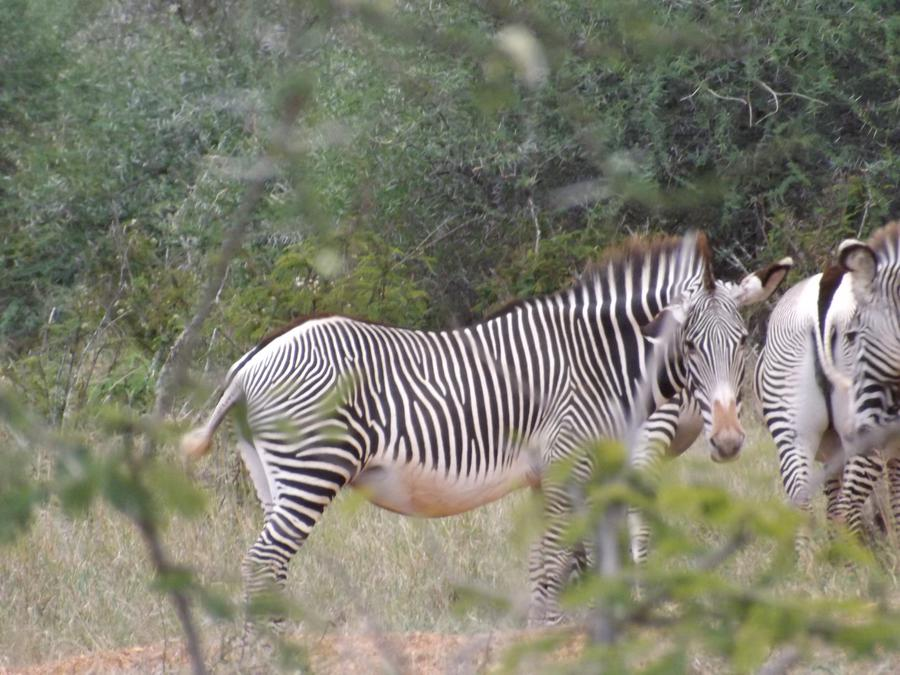zebra_grevys: (204, 296, 608, 476)
